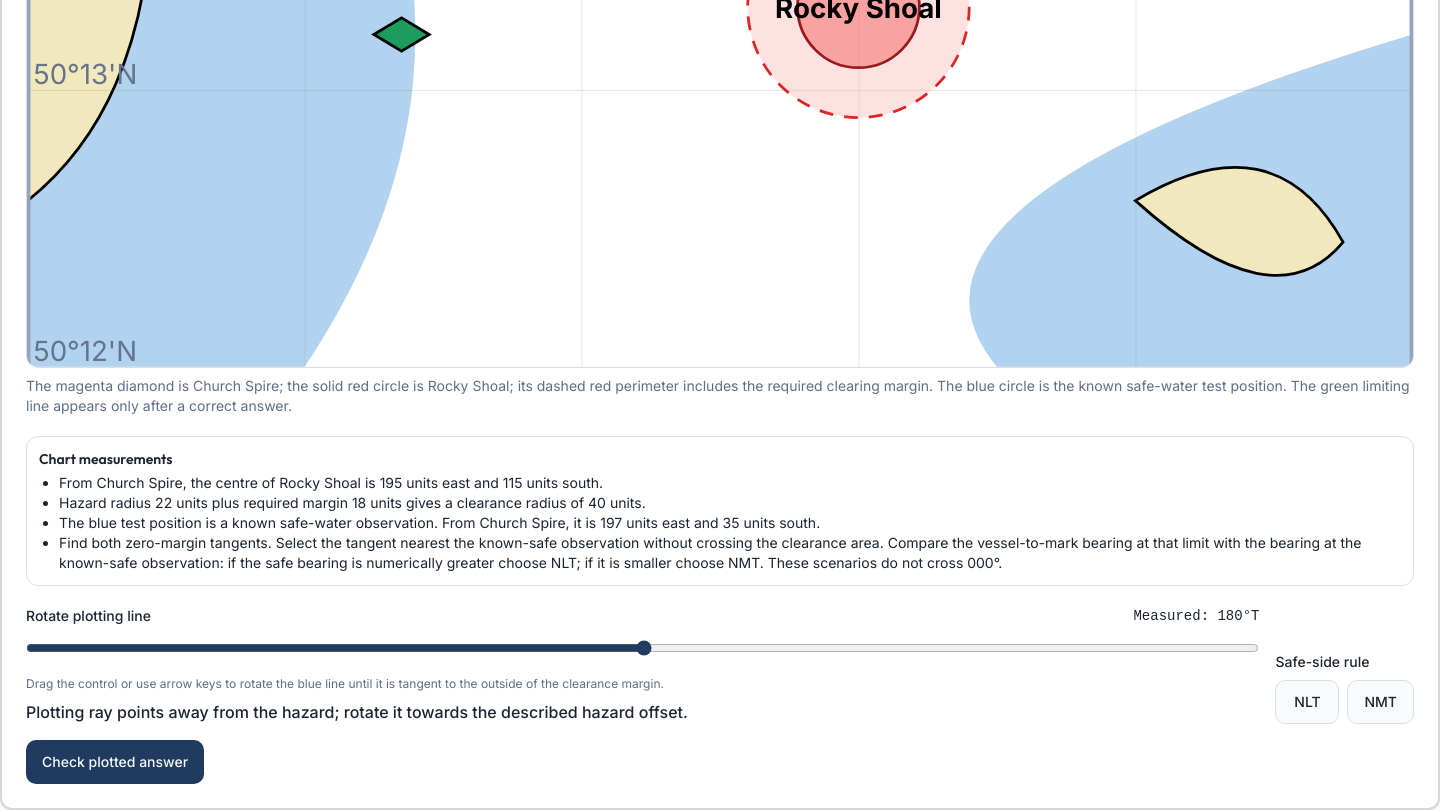
ClearingBearingTool › requires the learner to choose NLT or NMT
The image size is (1440, 810).
(page scrolled)
Check: the element "Safe-side rule NLT NMT" is shown, box x1=1276 y1=652 x2=1414 y2=724
Click the button "Check plotted answer" at point(115, 762), box x1=26 y1=740 x2=204 y2=784
(page scrolled)
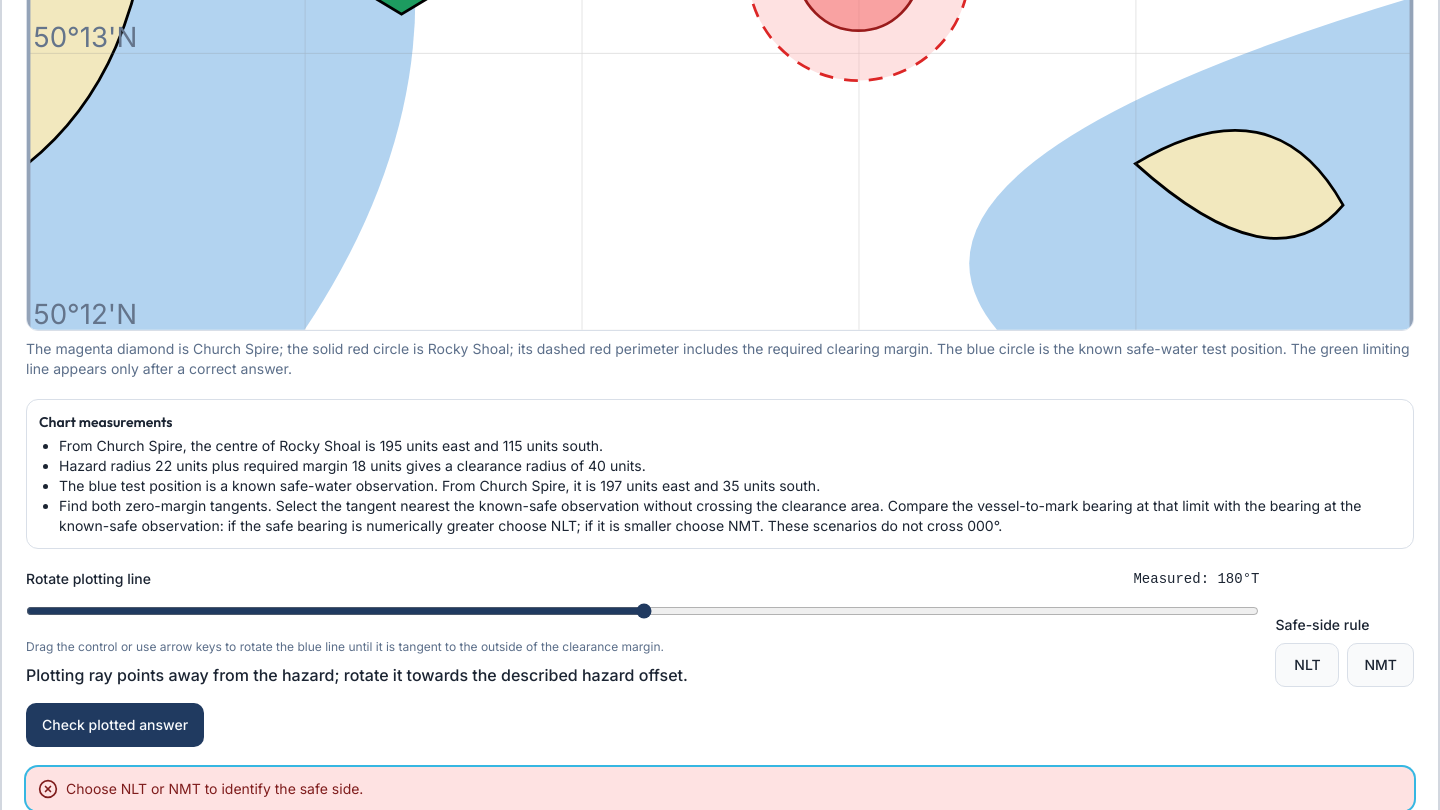
Check: the element named "answer feedback" shows "Choose NLT or NMT", box x1=66 y1=780 x2=363 y2=797
